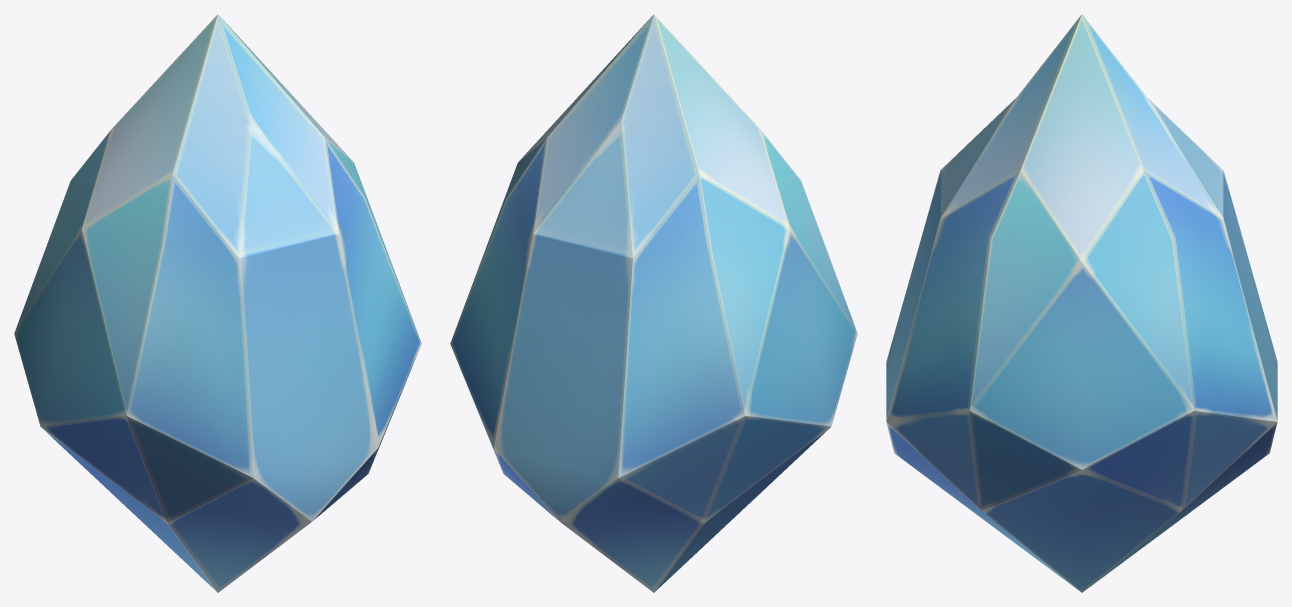
File: show_test_01.fbx
3 renders of one model, left to right at view 1: azimuth 30°, elevation 25°; view 2: azimuth 150°, elevation 25°; view 3: azimuth 270°, elevation 25°, orthographic.
Visible parts, largest first — view 1: show_test_01; view 2: show_test_01; view 3: show_test_01.
Boxes of the visible parts, x1=… form: show_test_01: x1=14, y1=14, x2=421, y2=592; show_test_01: x1=450, y1=14, x2=857, y2=592; show_test_01: x1=886, y1=14, x2=1277, y2=592.
Bounding box in the file's own units: 41.34 × 64.43 × 39.44.
